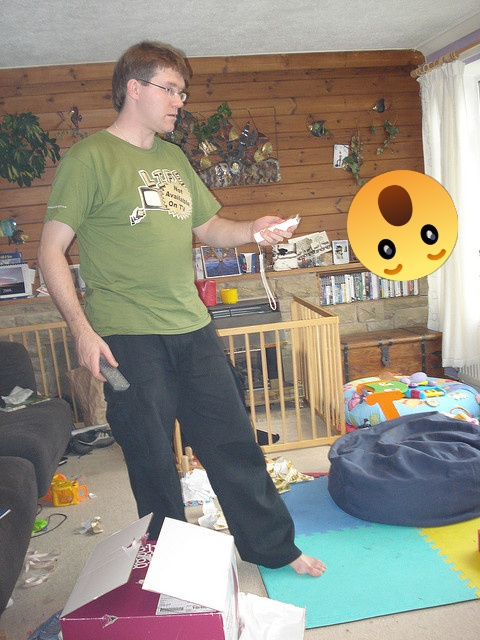wow: (347, 170, 458, 281)
